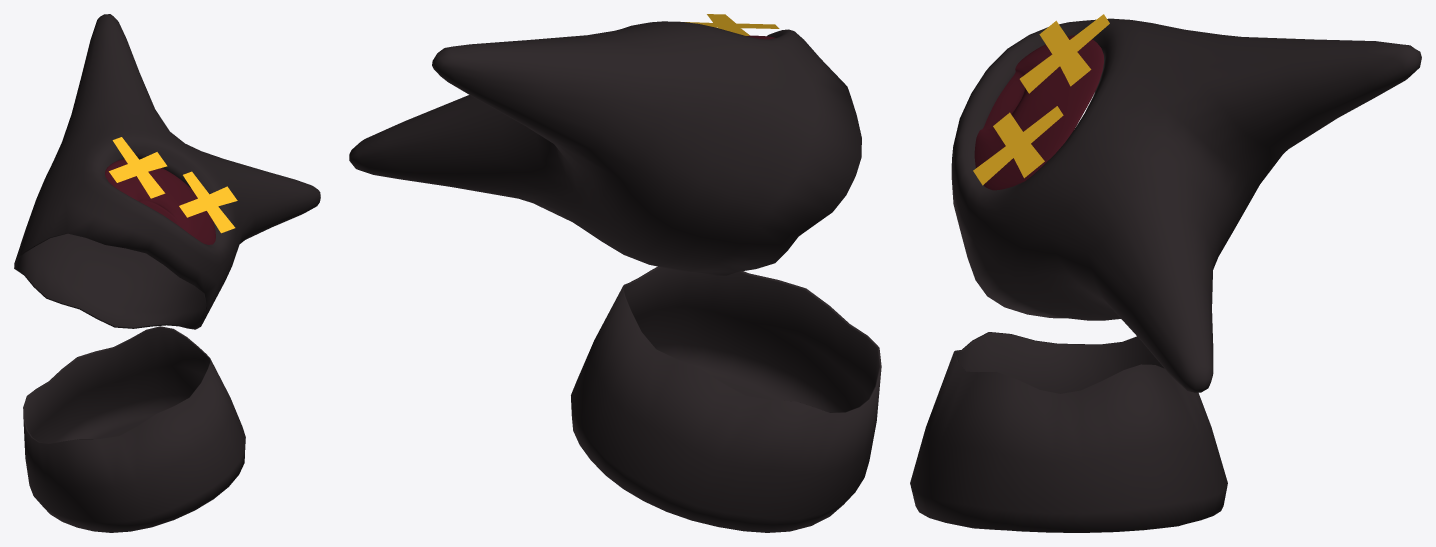
3 views of the same model, side by side, from view 1: azimuth 30°, elevation 25°; view 2: azimuth 150°, elevation 25°; view 3: azimuth 270°, elevation 25° (orthographic). The views are drawn at different scales.
Visible parts, largest first — view 1: Cube.040, Cube.099, Cube.098, Plane.040, Plane.043; view 2: Cube.040, Cube.099, Plane.043; view 3: Cube.040, Cube.099, Cube.098, Plane.040, Plane.043.
Part boxes in pixels (x1,y1,x2,y2): Cube.040: (14, 14, 320, 329); Cube.099: (23, 326, 245, 532); Cube.098: (105, 159, 215, 244); Plane.040: (179, 171, 237, 233); Plane.043: (109, 137, 167, 198); Cube.040: (349, 21, 861, 275); Cube.099: (571, 266, 881, 532); Plane.043: (685, 14, 779, 35); Cube.040: (951, 18, 1421, 392); Cube.099: (910, 332, 1227, 532); Cube.098: (974, 35, 1103, 190); Plane.040: (973, 106, 1063, 185); Plane.043: (1019, 14, 1109, 93).
Bounding box in the file's own units: 291 × 315 × 264.
